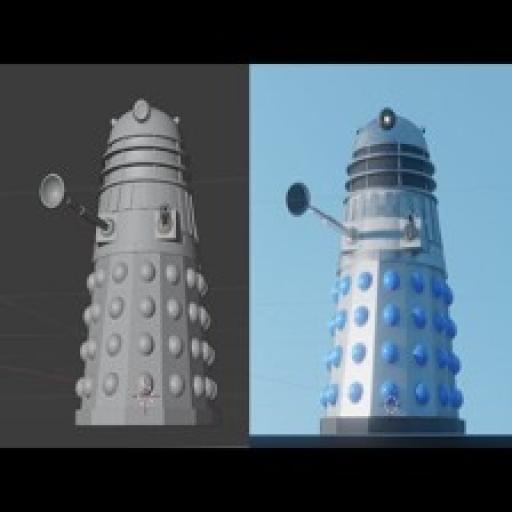dalek: (32, 92, 224, 430), (286, 104, 482, 435)
